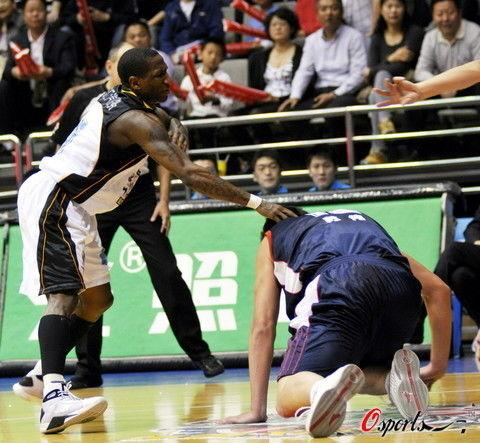bending: (5, 51, 271, 435), (211, 182, 457, 432)
